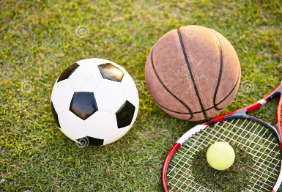ball: (143, 23, 245, 131), (49, 55, 143, 153), (204, 139, 239, 172)
